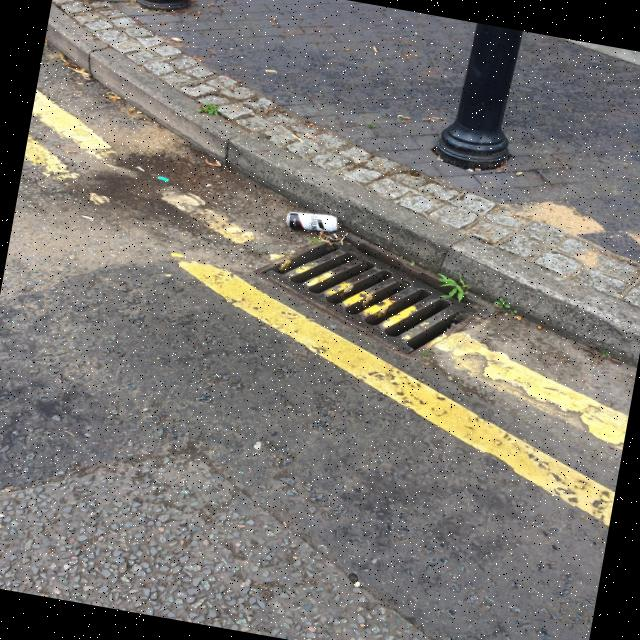Cigarette: (292, 134, 302, 141), (80, 215, 92, 220), (266, 71, 276, 73), (372, 47, 377, 51), (215, 161, 220, 165), (398, 116, 404, 117), (271, 17, 273, 19)
Drink can: (287, 212, 338, 232)
